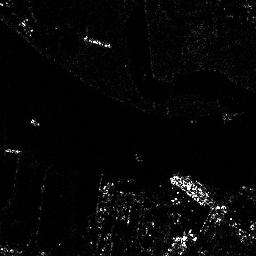ship: (82, 34, 111, 49)
